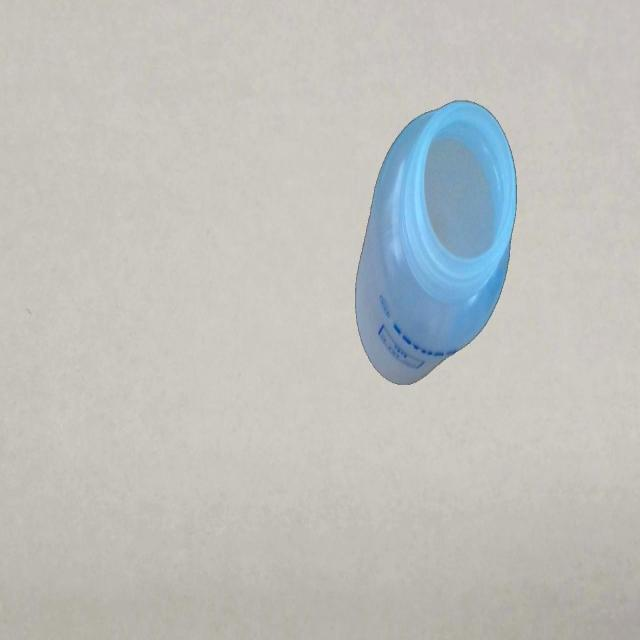bottle: (355, 97, 517, 386)
